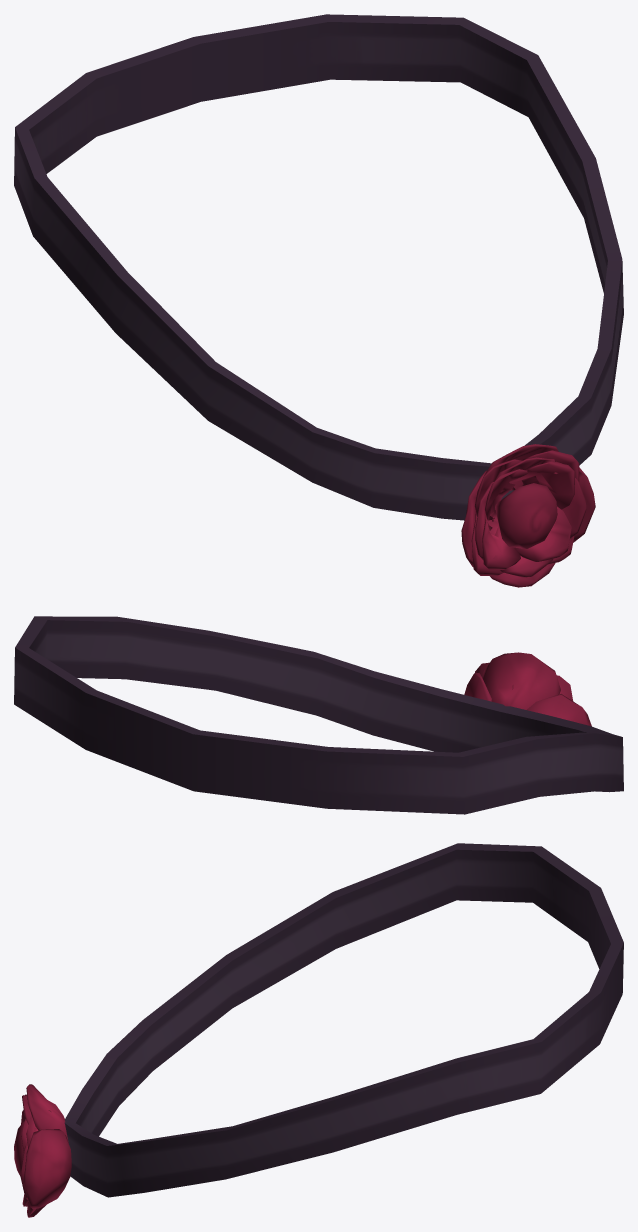
The model's file is KizanaNecklace.fbx.
3 views of the same model, one above another, from view 1: azimuth 30°, elevation 25°; view 2: azimuth 150°, elevation 25°; view 3: azimuth 270°, elevation 25° (orthographic). The views are drawn at different scales.
Visible parts, largest first — view 1: Tomuu_DramaNecklace; view 2: Tomuu_DramaNecklace; view 3: Tomuu_DramaNecklace.
Part boxes in pixels (x1,y1,x2,y2): Tomuu_DramaNecklace: (14,14,623,587); Tomuu_DramaNecklace: (14,616,623,814); Tomuu_DramaNecklace: (14,843,623,1217).
Size of the model in its own units: 8.21 by 4.77 by 9.58.
